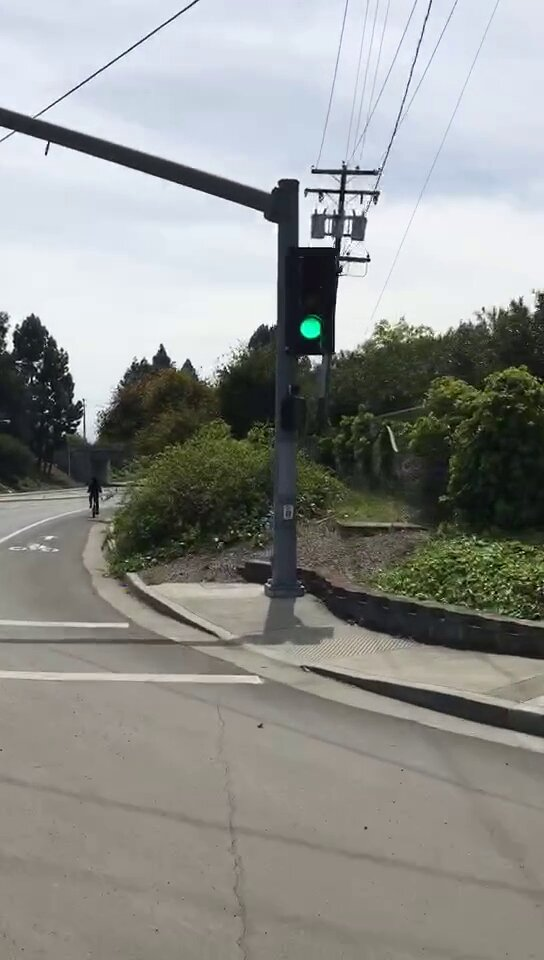green_light: (289, 249, 332, 349)
